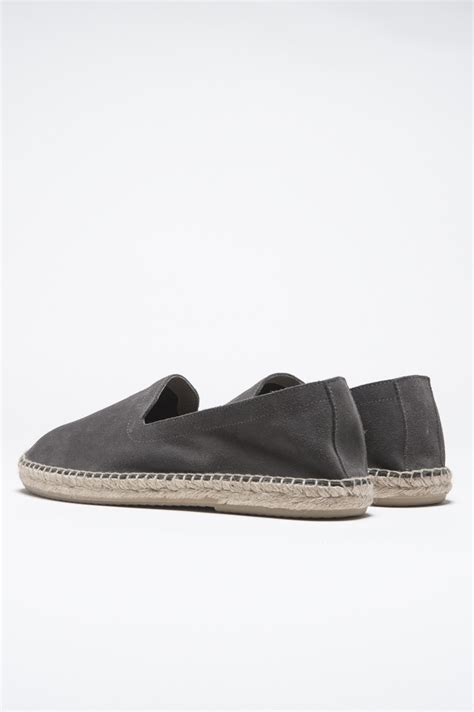gamuza: (22, 374, 447, 481)
